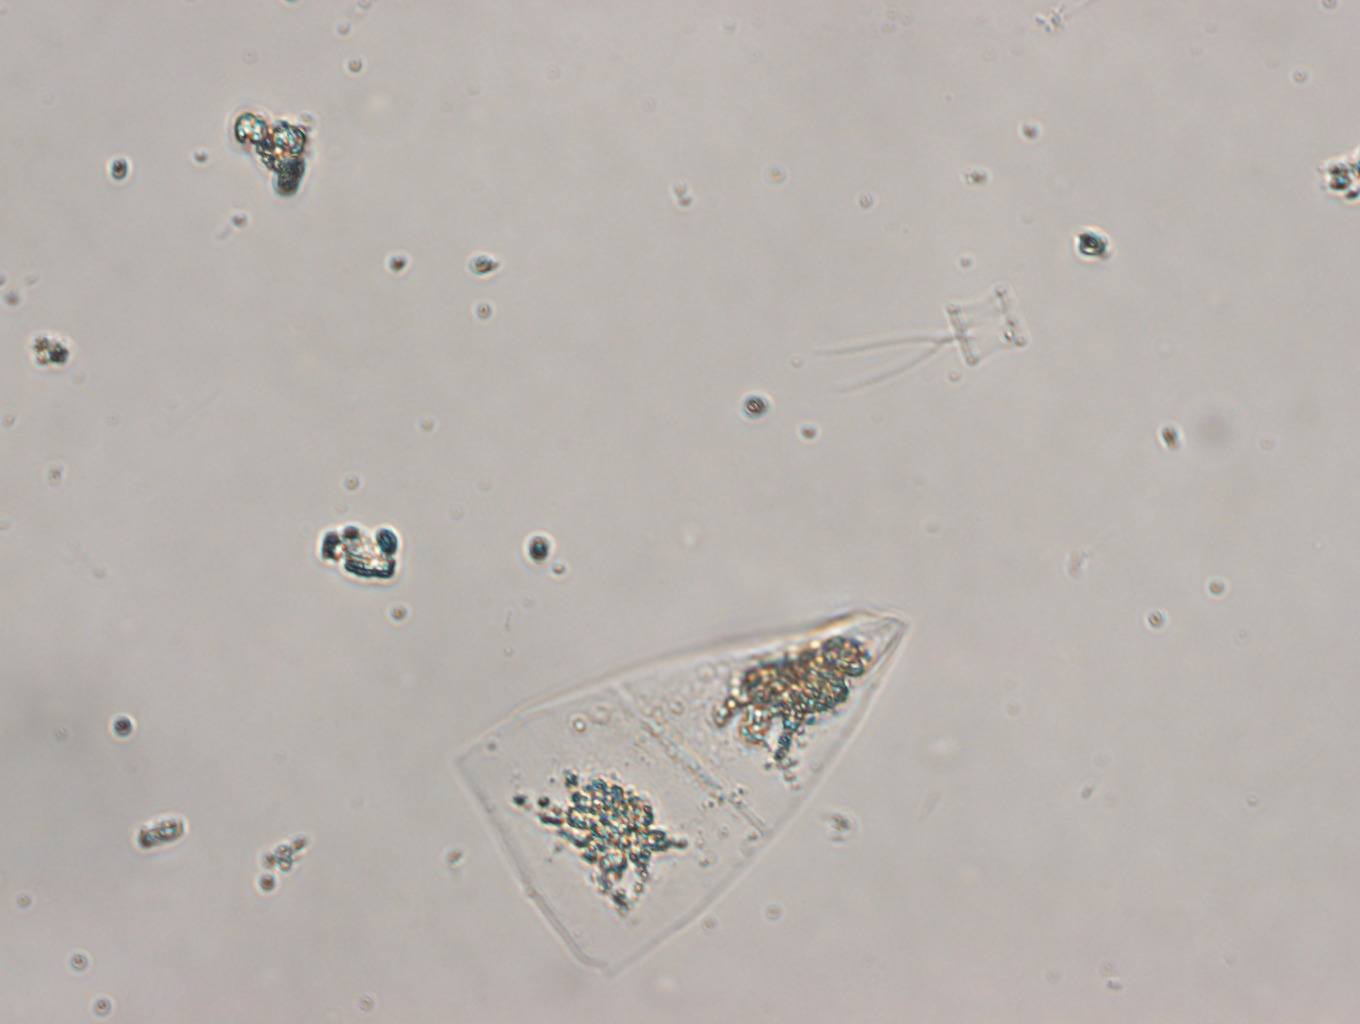chaetoceros: (818, 285, 1026, 395)
helicotheca: (450, 603, 907, 975)
